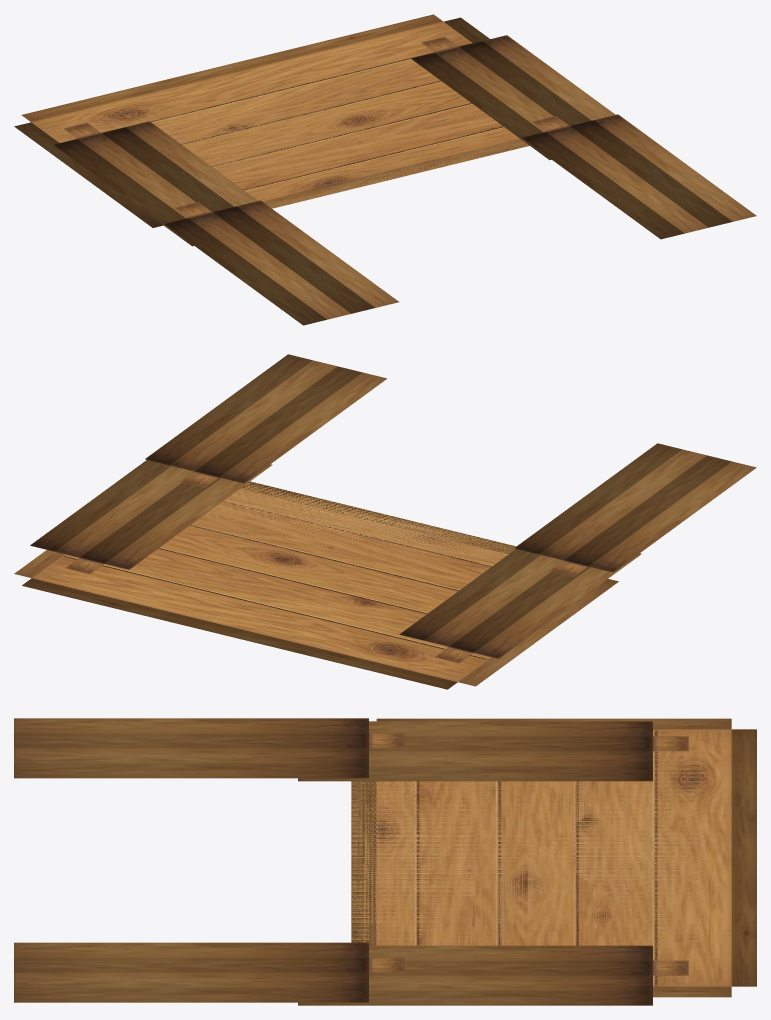
File: table_fold.glb
3 views of the same model, one above another, from view 1: azimuth 30°, elevation 25°; view 2: azimuth 150°, elevation 25°; view 3: azimuth 270°, elevation 25° (orthographic). The views are drawn at different scales.
Parts seen in each view (by area): view 1: GEO-table; view 2: GEO-table; view 3: GEO-table.
Boxes of the visible parts, x1=… form: GEO-table: x1=14, y1=14, x2=756, y2=325; GEO-table: x1=14, y1=354, x2=756, y2=689; GEO-table: x1=14, y1=718, x2=756, y2=1005.
Bounding box in the file's own units: 1.34 × 0.012 × 1.46.
1 material, 1 textured.
